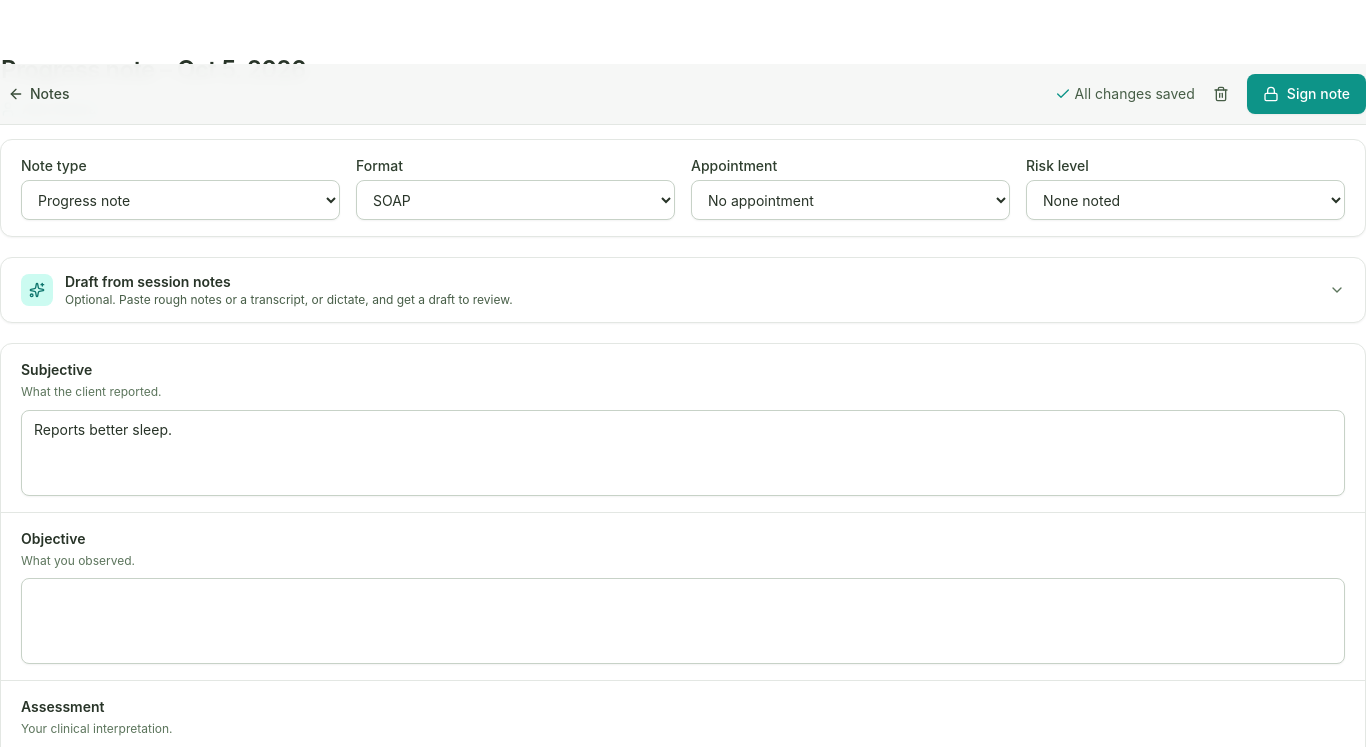
Test: NoteEditorPage › signs after confirmation and then shows the locked note
What coordinates should you click on to do the following:
click the button "Sign note"
I would click on:
 (1306, 94)
Its box is [1247,74,1365,114].
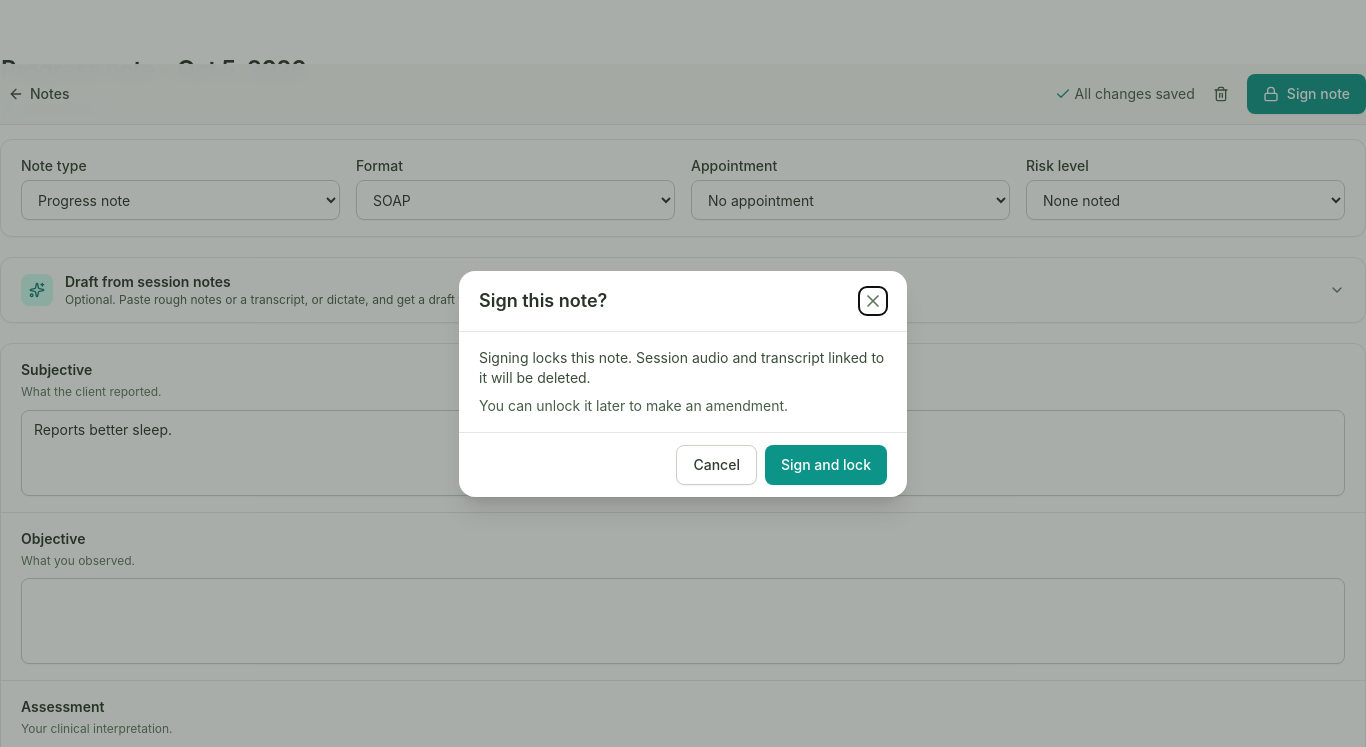
expect the text "Signing locks this note. Session audio and transcript linked to it will be deleted." is shown: met, box [479,349,884,386]
What coordinates should you click on to do the following:
click the button "Sign and lock"
I would click on:
 (826, 465)
Its box is [765,445,887,485].
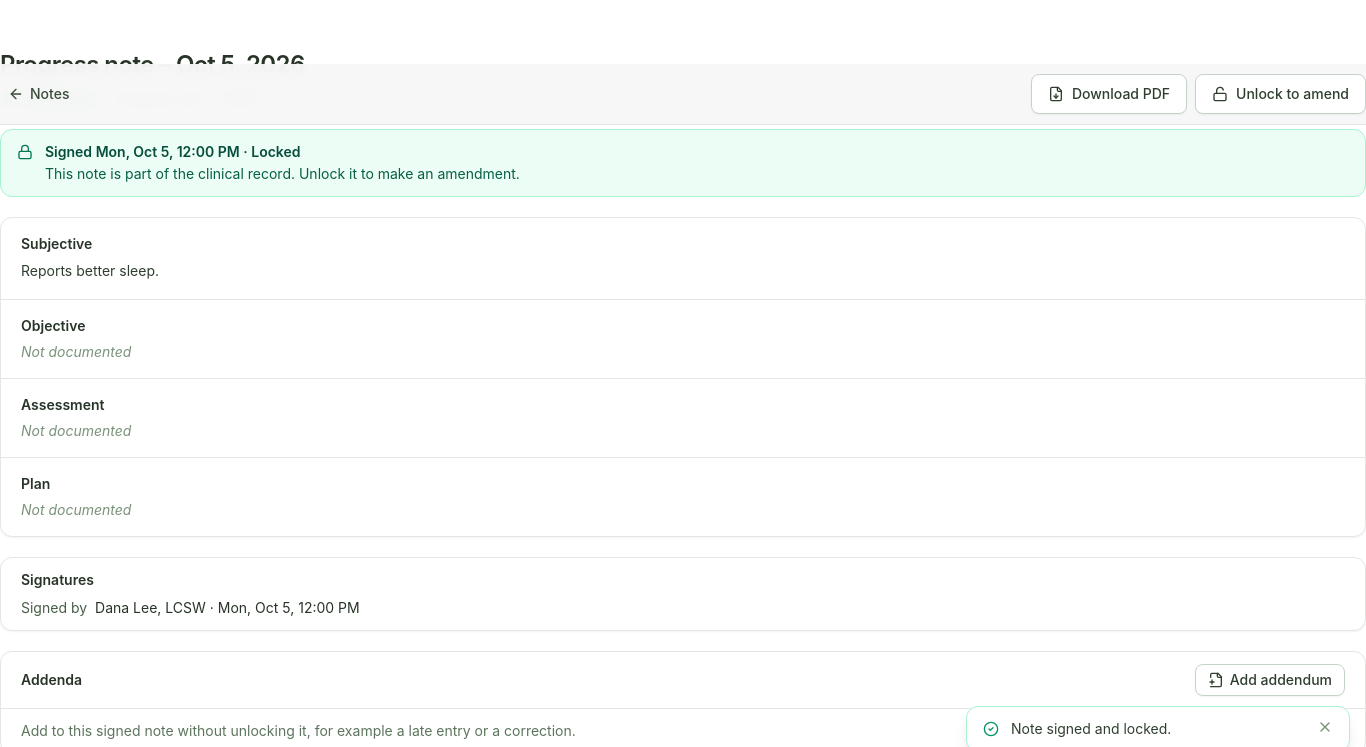
expect the button "Unlock to amend" is shown: met, box [1195,74,1365,114]
expect the text "Reports better sleep." is shown: met, box [21,262,159,279]
expect the text "Signed Mon, Oct 5, 12:00 PM · Locked" is shown: met, box [45,143,300,160]
